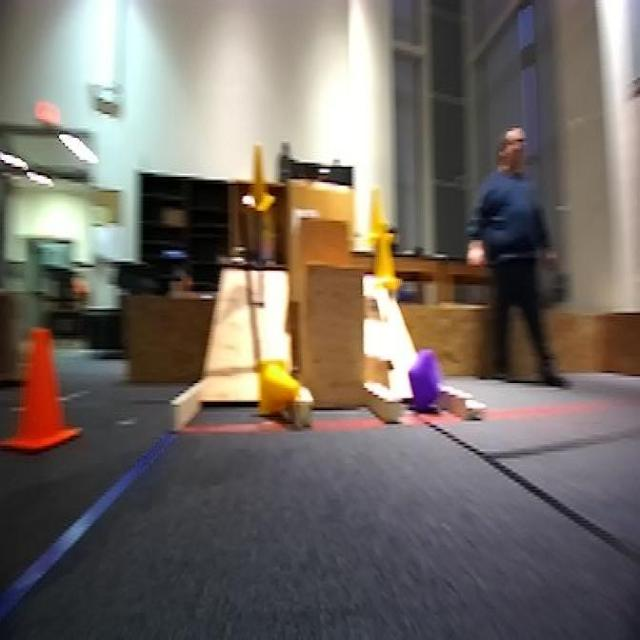frc_cone: (259, 364, 305, 419), (246, 144, 277, 212), (373, 221, 403, 286), (372, 187, 397, 242)
frc_cube: (408, 354, 440, 405)
